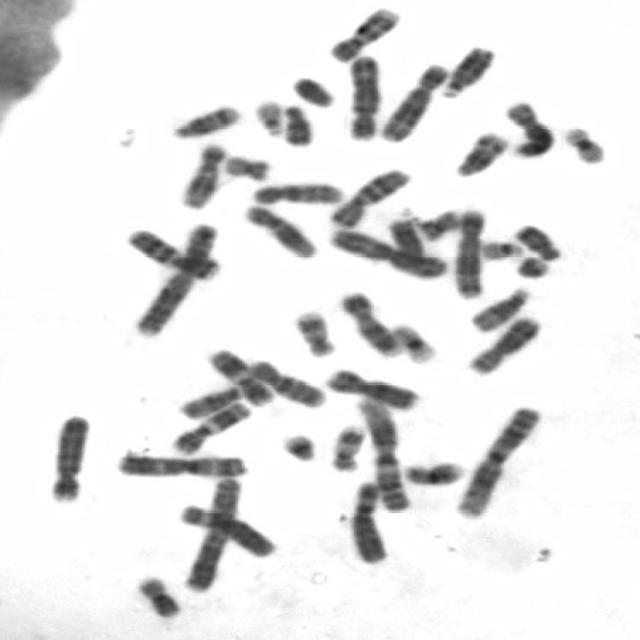A1: (452, 403, 545, 519), (355, 399, 412, 516)
A2: (127, 220, 221, 339), (177, 473, 244, 592)
A3: (323, 223, 449, 281), (110, 448, 250, 478)
B4: (44, 410, 92, 503), (347, 50, 385, 147)
B5: (375, 59, 450, 145), (448, 204, 488, 300)
C10: (244, 357, 328, 409), (248, 179, 345, 207)
C11: (167, 396, 252, 456), (204, 344, 273, 408)
C12: (239, 201, 320, 261), (174, 140, 230, 212)
C6: (174, 499, 276, 558), (345, 482, 391, 568)
C7: (120, 225, 221, 282), (323, 165, 412, 229)
C8: (462, 312, 542, 377), (500, 98, 555, 159)
C9: (336, 288, 402, 358), (324, 5, 402, 64)
D13: (434, 43, 496, 99), (385, 218, 425, 274)
D14: (167, 101, 242, 140), (451, 128, 508, 179)
D15: (463, 283, 534, 333), (174, 382, 251, 420)
E16: (136, 576, 185, 622), (399, 460, 463, 487)
E17: (289, 306, 335, 359), (326, 422, 366, 474)
E18: (510, 222, 562, 262), (279, 101, 316, 152)
F19: (388, 322, 435, 366), (560, 125, 608, 165)
F20: (416, 207, 466, 243), (221, 152, 273, 183)
G21: (276, 429, 322, 464), (508, 255, 554, 281)
G22: (251, 96, 286, 138), (477, 238, 525, 262)
X: (320, 364, 423, 412)
Y: (287, 73, 337, 109)
